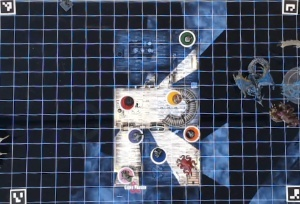blue: (150, 146, 168, 167)
green: (178, 29, 197, 48)
orange: (183, 123, 202, 143)
pink: (115, 163, 138, 185)
red: (119, 94, 138, 110)
violet: (125, 126, 146, 146)
yellow: (164, 88, 183, 107)
